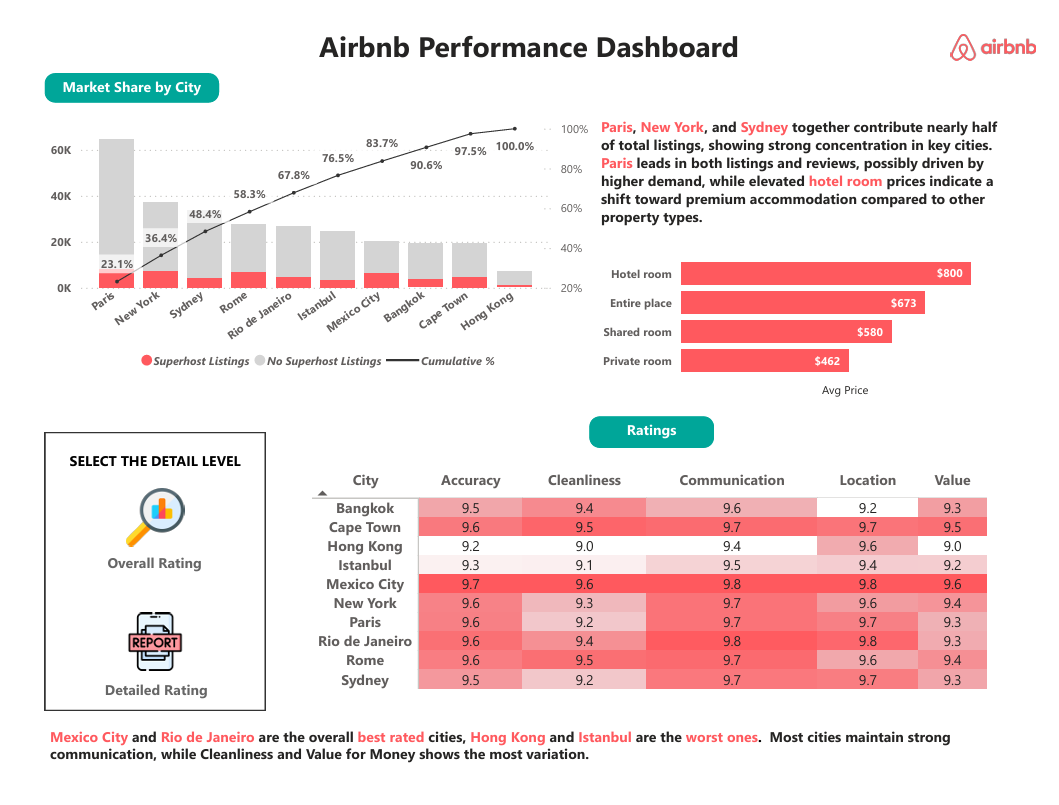

This screenshot's page, from the dashboard's own definition file:
{"tool":"powerbi","page":{"name":"Ratings","canvas":[960,720],"ordinal":1},"visuals":[{"type":"textbox","box":[270.3,0,419.4,48.9],"z":0},{"type":"image","box":[879.2,0,80.7,48.9],"z":1000},{"type":"textbox","box":[22,48.9,165.1,28.1],"z":2000},{"type":"lineStackedColumnComboChart","fields":{"Category":["Listings.city"],"Y":["Listings.Superhost Listings","Listings.No Superhost Listings"],"Y2":["Listings.Cumulative %"]},"box":[22,85.6,520.9,253.1],"z":3000},{"type":"barChart","fields":{"Category":["Listings.room_type"],"Y":["Listings.Avg Price"]},"box":[542.9,204.2,396.2,155.3],"z":4000},{"type":"textbox","box":[542.9,85.6,396.2,118.6],"z":5000},{"type":"textbox","box":[36.7,403.5,179.8,33],"z":6000},{"type":"textbox","box":[536.8,374.2,118.6,29.3],"z":7000},{"type":"shape","box":[22,388.9,209.1,264.1],"z":8000},{"type":"image","box":[99.1,436.6,55,63.6],"z":9000,"group":"g1"},{"type":"columnChart","fields":{"Y":["Listings.Avg Rating"],"Category":["Listings.city"]},"box":[270.2,412.1,668.9,240.9],"z":10000},{"type":"image","box":[99.1,553.9,55,67.3],"z":10000,"group":"g2"},{"type":"group","id":"g1","title":"Group 1","box":[68.5,436.6,116.2,92.9],"z":11000},{"type":"group","id":"g2","title":"Group 2","box":[62.4,553.9,130.8,95.4],"z":12000},{"type":"textbox","box":[68.5,500.2,116.2,29.3],"z":13000,"group":"g1"},{"type":"textbox","box":[22,662.8,917.1,46.5],"z":13000},{"type":"textbox","box":[62.4,621.2,130.8,28.1],"z":13001,"group":"g2"}]}

Visuals, with their boxes in screenshot pixels (x1, y1, x2, y2), scaled from the page's 960x720 canvas onto the 1059x805 screenshot:
textbox: (298,0,761,55)
image: (970,0,1058,55)
textbox: (24,55,206,86)
lineStackedColumnComboChart - Listings.city x Listings.Superhost Listings: (24,96,599,379)
barChart - Listings.room_type x Listings.Avg Price: (599,228,1036,402)
textbox: (599,96,1036,228)
textbox: (40,451,239,488)
textbox: (592,418,723,451)
shape: (24,435,255,730)
image: (109,488,170,559)
columnChart - Listings.Avg Rating x Listings.city: (298,461,1036,730)
image: (109,619,170,695)
"Group 1" group: (76,488,204,592)
"Group 2" group: (69,619,213,726)
textbox: (76,559,204,592)
textbox: (24,741,1036,793)
textbox: (69,695,213,726)
